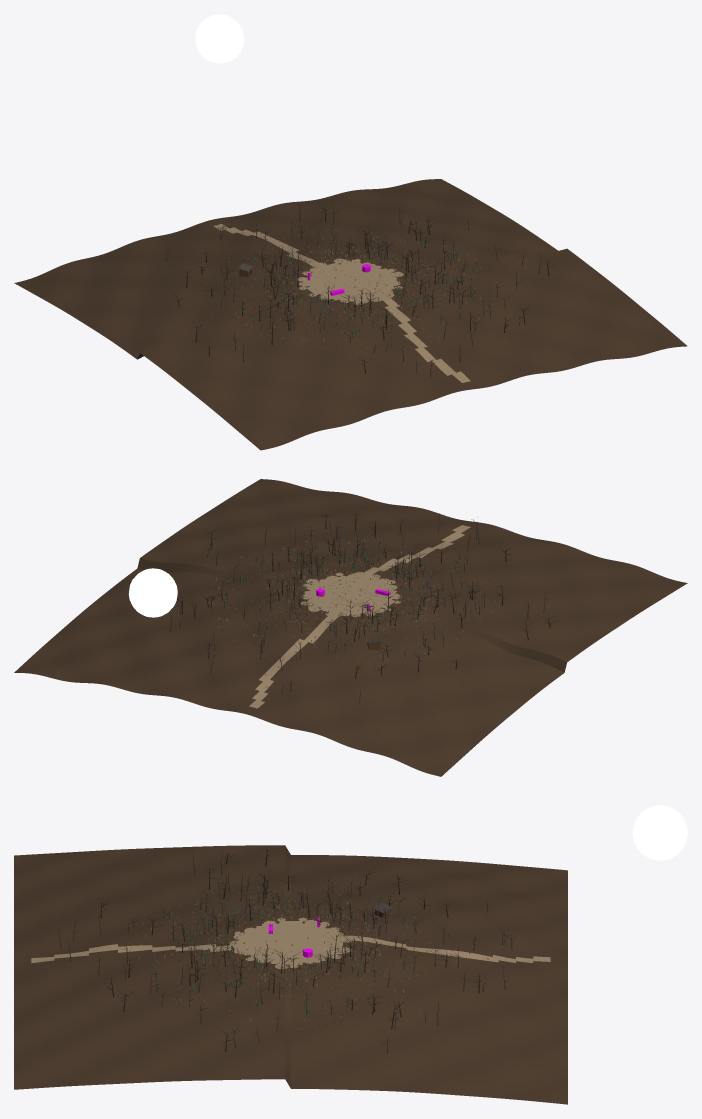
The model's file is sertao.glb.
3 views of the same model, one above another, from view 1: azimuth 30°, elevation 25°; view 2: azimuth 150°, elevation 25°; view 3: azimuth 270°, elevation 25° (orthographic). The views are drawn at different scales.
Visible parts, largest first — view 1: GROUND_hill, static_MAT_CLOTH_dead_wood, static_MAT_CLOTH_dark_wood, moon, static_MAT_CLOTH_dry_grass, static_MAT_CLOTH_cactus, dryGrassDark; view 2: GROUND_hill, static_MAT_CLOTH_dead_wood, static_MAT_CLOTH_dark_wood, moon, static_MAT_CLOTH_dry_grass, static_MAT_CLOTH_cactus, dryGrassDark; view 3: GROUND_hill, static_MAT_CLOTH_dead_wood, static_MAT_CLOTH_dark_wood, moon, static_MAT_CLOTH_dry_grass, static_MAT_CLOTH_cactus, dryGrassDark.
Part boxes in pixels (bbox=[...]): GROUND_hill: bbox=[14, 179, 687, 450]; static_MAT_CLOTH_dead_wood: bbox=[164, 198, 546, 377]; static_MAT_CLOTH_dark_wood: bbox=[173, 206, 554, 372]; moon: bbox=[195, 14, 244, 63]; static_MAT_CLOTH_dry_grass: bbox=[211, 230, 496, 349]; static_MAT_CLOTH_cactus: bbox=[216, 236, 476, 338]; dryGrassDark: bbox=[201, 231, 491, 352]; GROUND_hill: bbox=[14, 479, 687, 776]; static_MAT_CLOTH_dead_wood: bbox=[169, 513, 551, 703]; static_MAT_CLOTH_dark_wood: bbox=[177, 513, 555, 678]; moon: bbox=[128, 568, 177, 617]; static_MAT_CLOTH_dry_grass: bbox=[209, 539, 499, 665]; static_MAT_CLOTH_cactus: bbox=[224, 536, 473, 657]; dryGrassDark: bbox=[202, 540, 496, 669]; GROUND_hill: bbox=[14, 845, 567, 1104]; static_MAT_CLOTH_dead_wood: bbox=[52, 852, 515, 1052]; static_MAT_CLOTH_dark_wood: bbox=[97, 847, 485, 1051]; moon: bbox=[632, 805, 687, 860]; static_MAT_CLOTH_dry_grass: bbox=[128, 884, 456, 1029]; static_MAT_CLOTH_cactus: bbox=[154, 881, 421, 1017]; dryGrassDark: bbox=[124, 882, 453, 1025].
Bounding box in the file's own units: 180 × 70.97 × 219.
